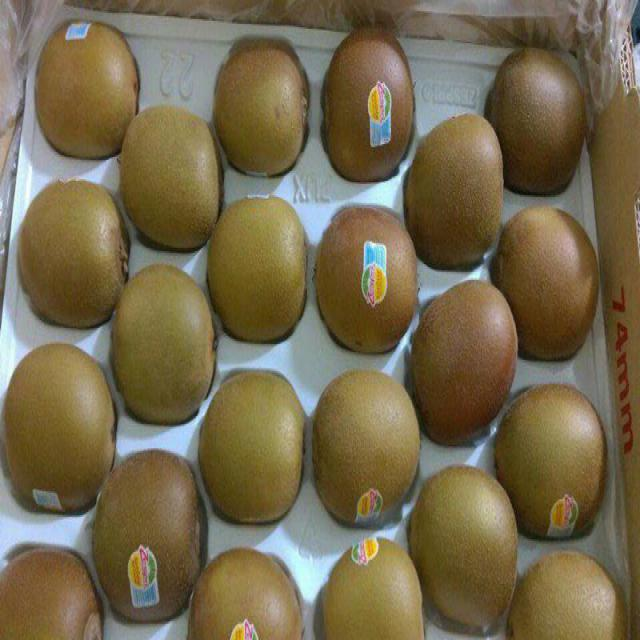kiwi: (313, 172, 416, 355), (14, 165, 125, 334), (2, 342, 114, 507), (508, 390, 620, 547), (212, 41, 319, 184), (214, 190, 309, 347), (493, 57, 596, 201), (127, 260, 214, 425), (410, 121, 501, 270), (325, 33, 413, 185), (317, 525, 432, 640), (33, 23, 136, 150), (507, 549, 630, 640), (2, 531, 105, 638), (135, 113, 218, 241), (128, 472, 176, 629), (342, 360, 390, 515), (197, 567, 311, 615), (241, 369, 273, 515), (541, 205, 565, 368), (462, 273, 470, 438), (460, 457, 468, 617)
